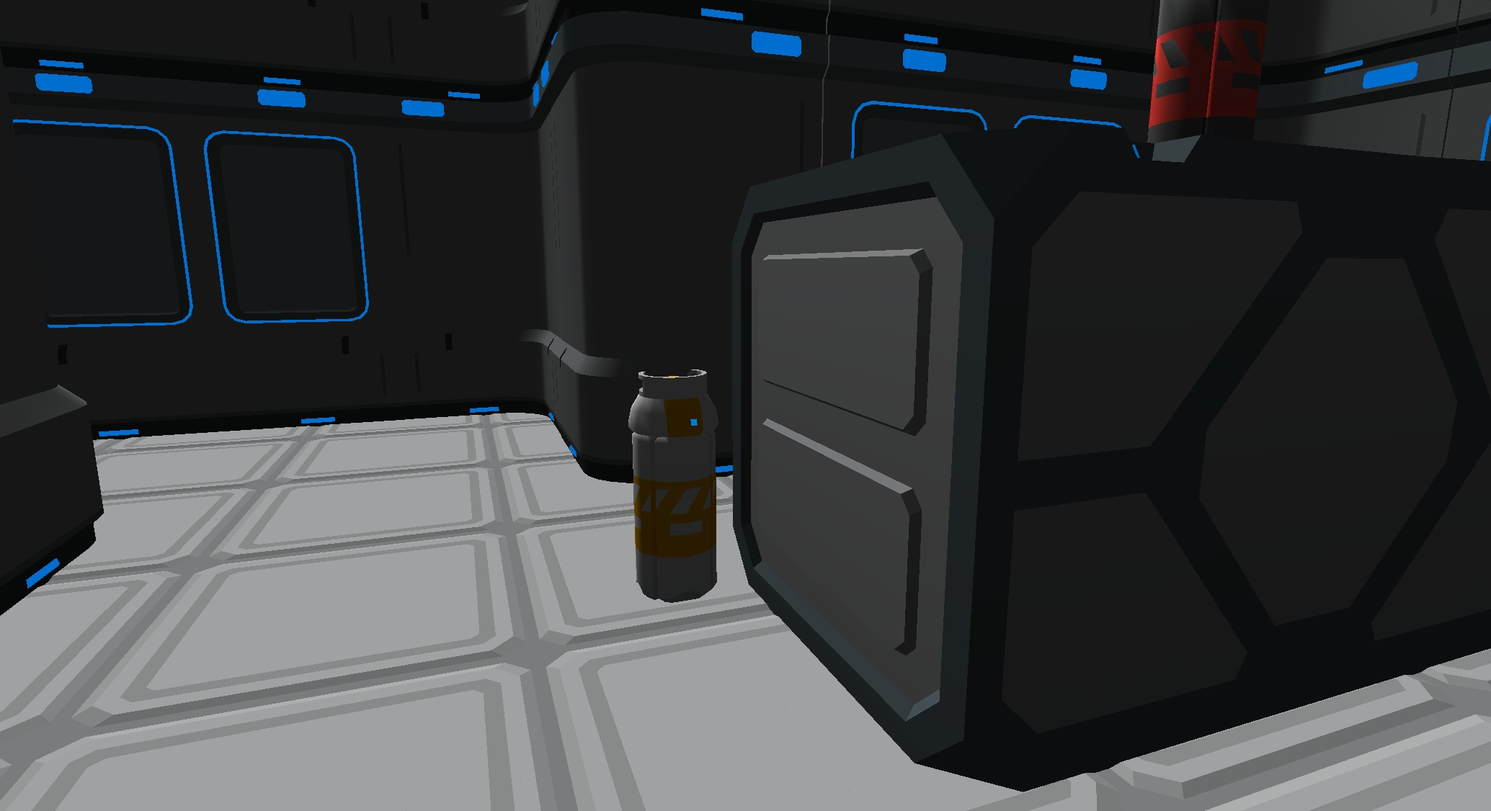red_barrel: (1149, 0, 1268, 142)
yellow_barrel: (629, 370, 718, 601)
